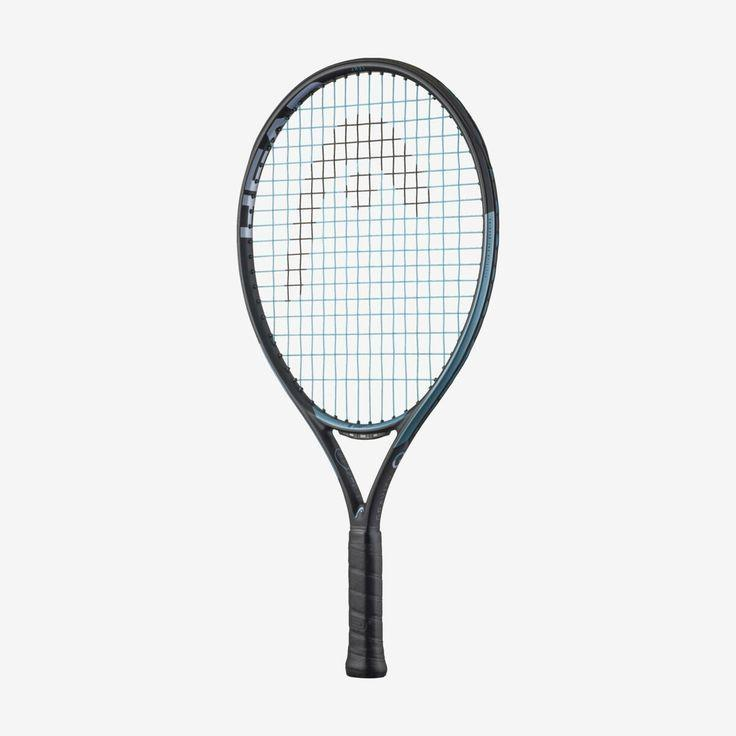Tennis-Racket: (212, 52, 510, 700)
